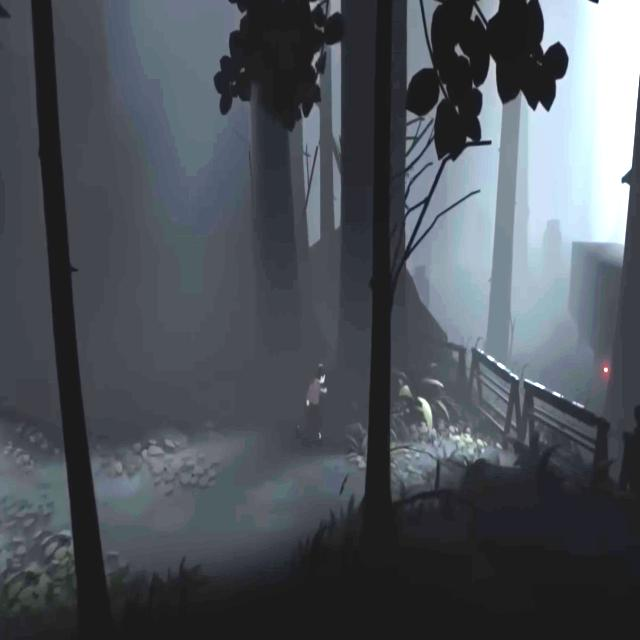boy: (298, 363, 328, 445)
